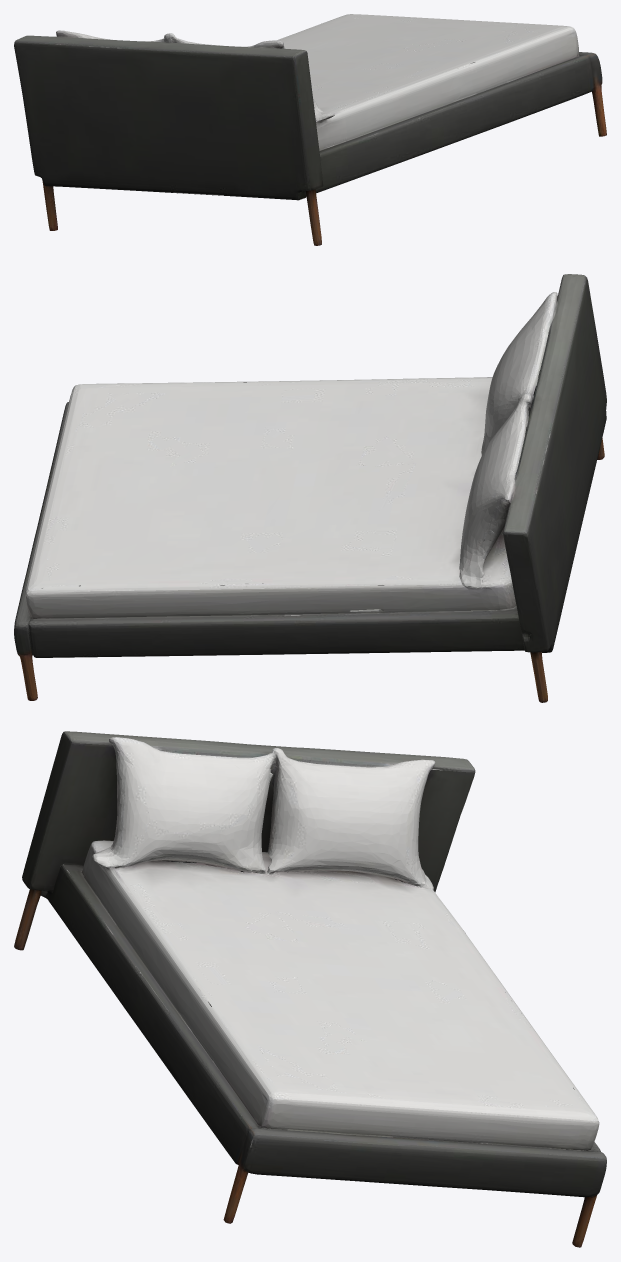
File: grey_and_white_bed_000.glb
The picture shows the model from 3 angles, top to bottom: view 1: azimuth 30°, elevation 25°; view 2: azimuth 150°, elevation 25°; view 3: azimuth 270°, elevation 25°; orthographic projection. The views are drawn at different scales.
Visible parts, largest first — view 1: grey_and_white_bed_000.obj; view 2: grey_and_white_bed_000.obj; view 3: grey_and_white_bed_000.obj.
Part boxes in pixels (x1,y1,x2,y2): grey_and_white_bed_000.obj: (14, 14, 606, 245); grey_and_white_bed_000.obj: (14, 274, 606, 702); grey_and_white_bed_000.obj: (14, 731, 606, 1247).
Bounding box in the file's own units: 1.68 × 0.9357 × 1.43.
Materials: 1 (1 with a texture image).
